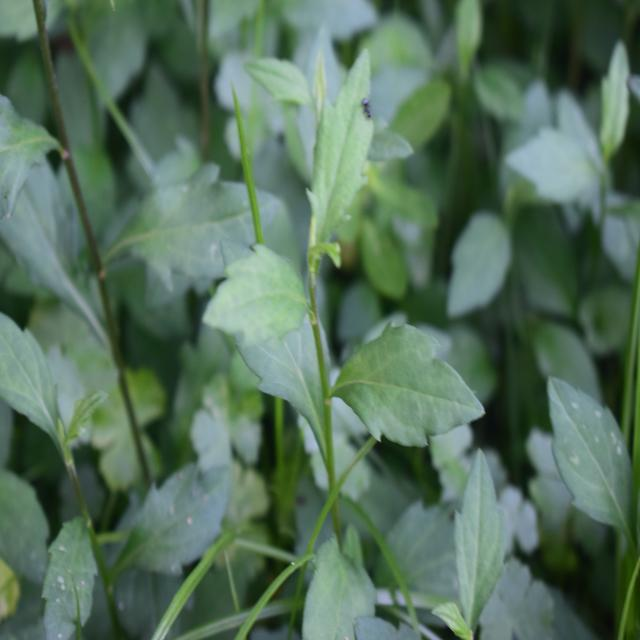Indian aster: (199, 65, 435, 466)
